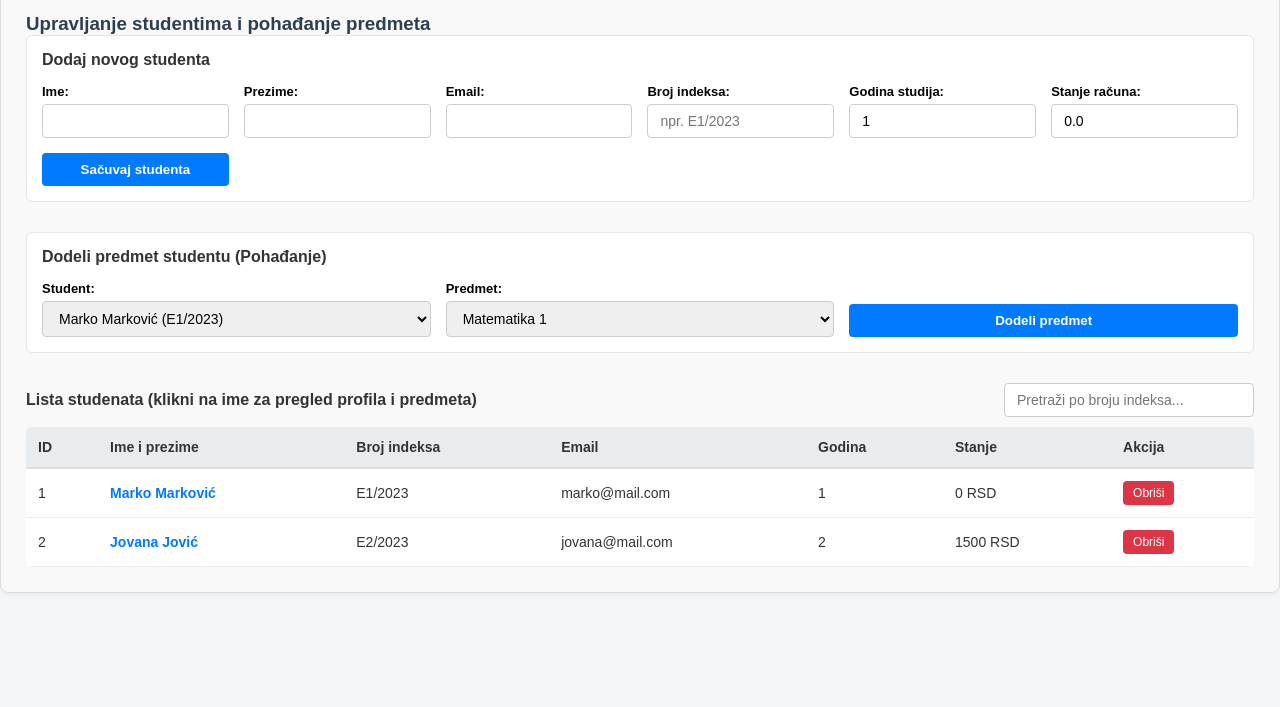
AdminStudenti Component - Comprehensive Tests › prikazuje dosije studenta i njegove predmete kada se klikne na ime
Click the text "Marko Marković": click(131, 493) 98,468 -> 344,518
(page scrolled)
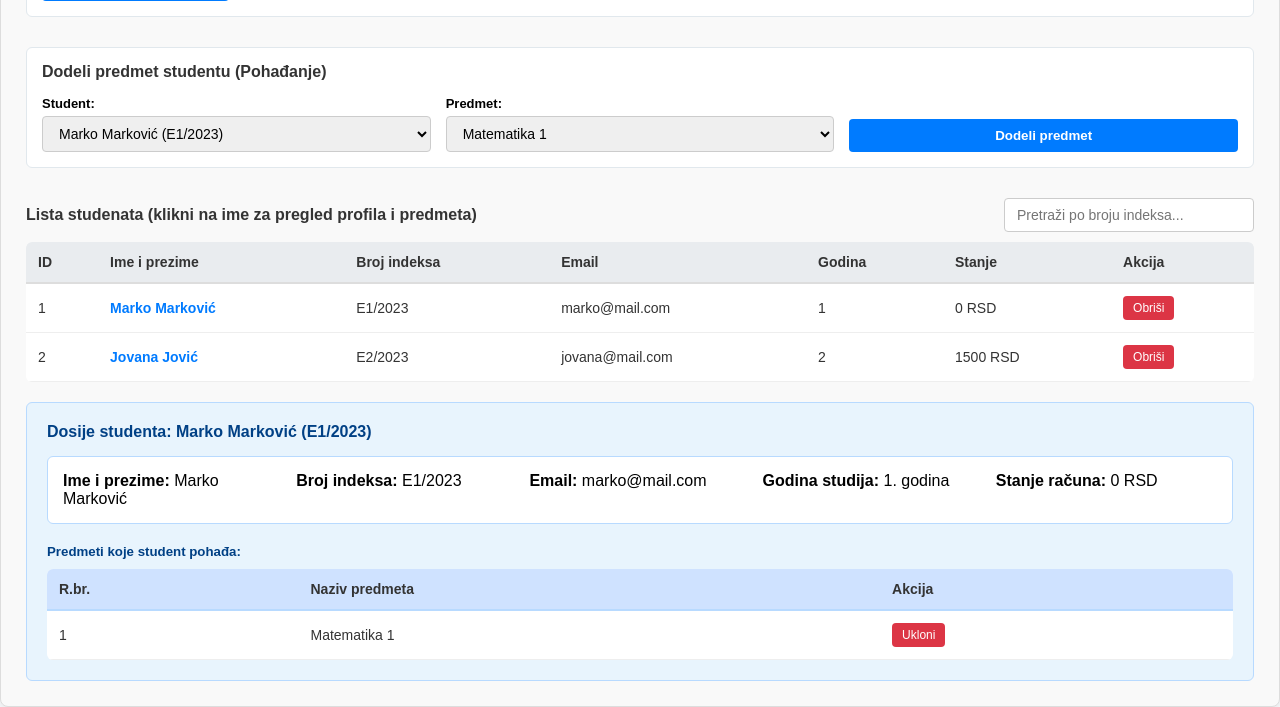
Check: the heading "Dosije studenta: Marko Marković (E1/2023)" is shown, box 47,423 -> 372,440
Check: the text "Matematika 1" is shown, box 298,610 -> 880,660
